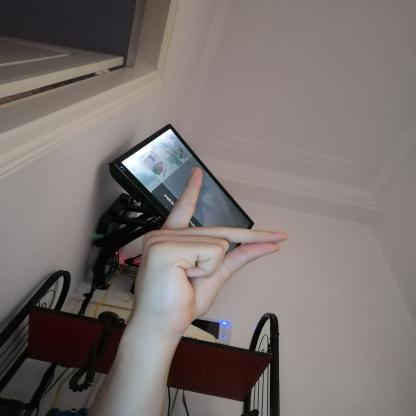TAA: (122, 160, 296, 332)
